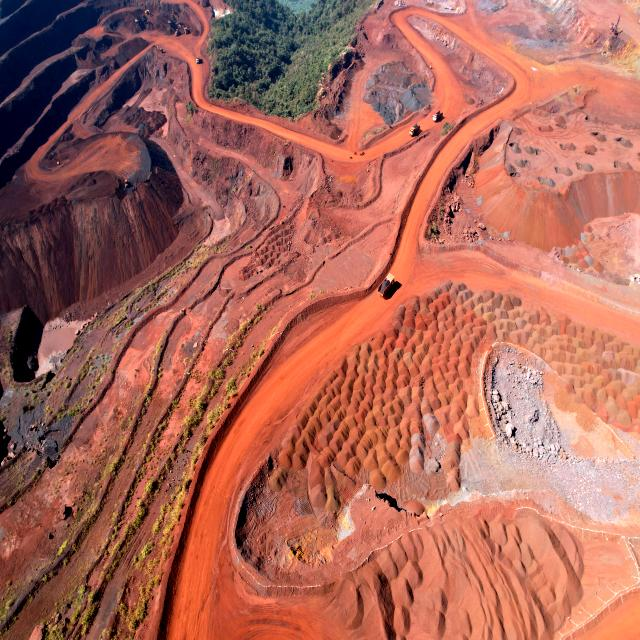Blast rig: (609, 14, 621, 34)
Dumper truck: (378, 272, 397, 295), (409, 124, 421, 135), (432, 111, 442, 122), (184, 26, 188, 34), (196, 56, 200, 63)
Excavator: (145, 10, 150, 16)
